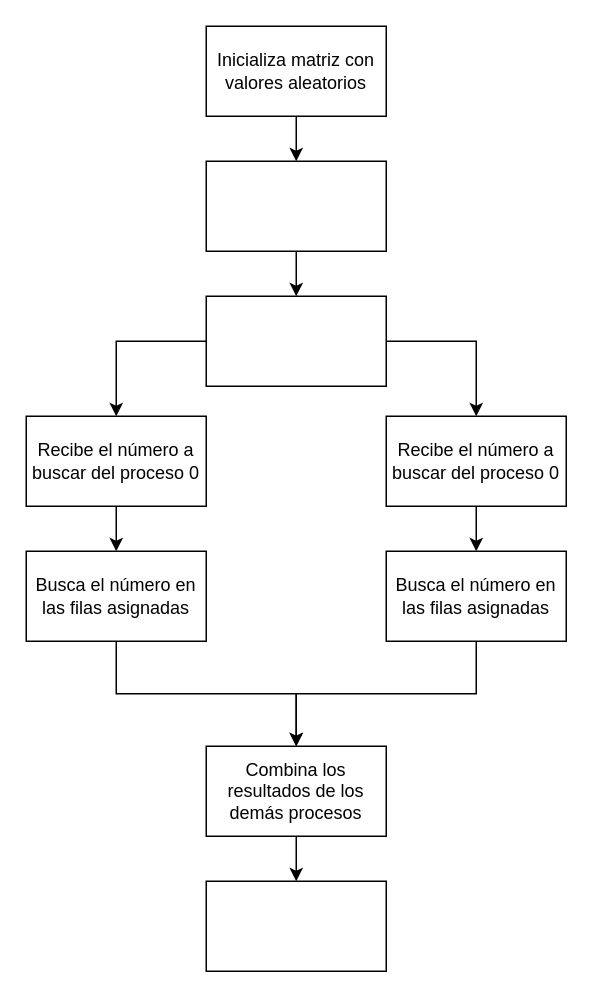
The diagram is 593 pixels wide and 998 high, and some of its shapes have lost their labels. Here are the shapes that lost their labels. From the top down, the centre of each, then its label:
At (295,205): "Solicita al usuario el número a buscar".
At (295,340): "Envía el número a buscar a los demás procesos".
At (295,925): "Imprime el número de veces que el número buscado aparece en la matriz".
